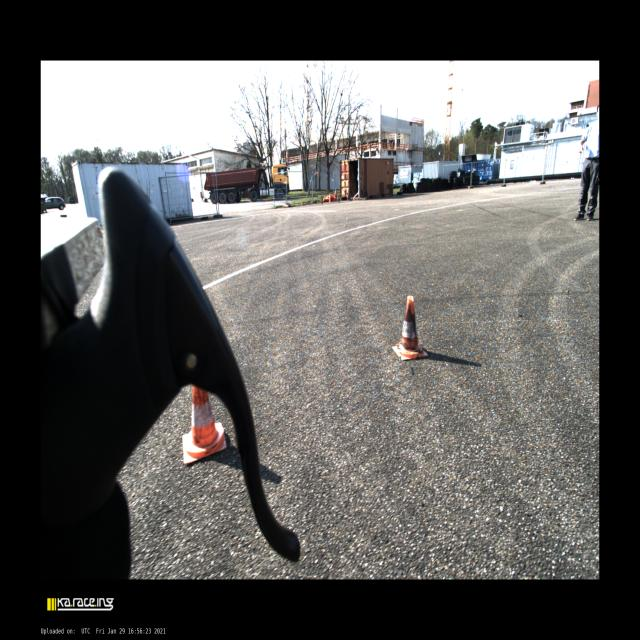orange_cone: (182, 386, 227, 465), (392, 296, 429, 360)
